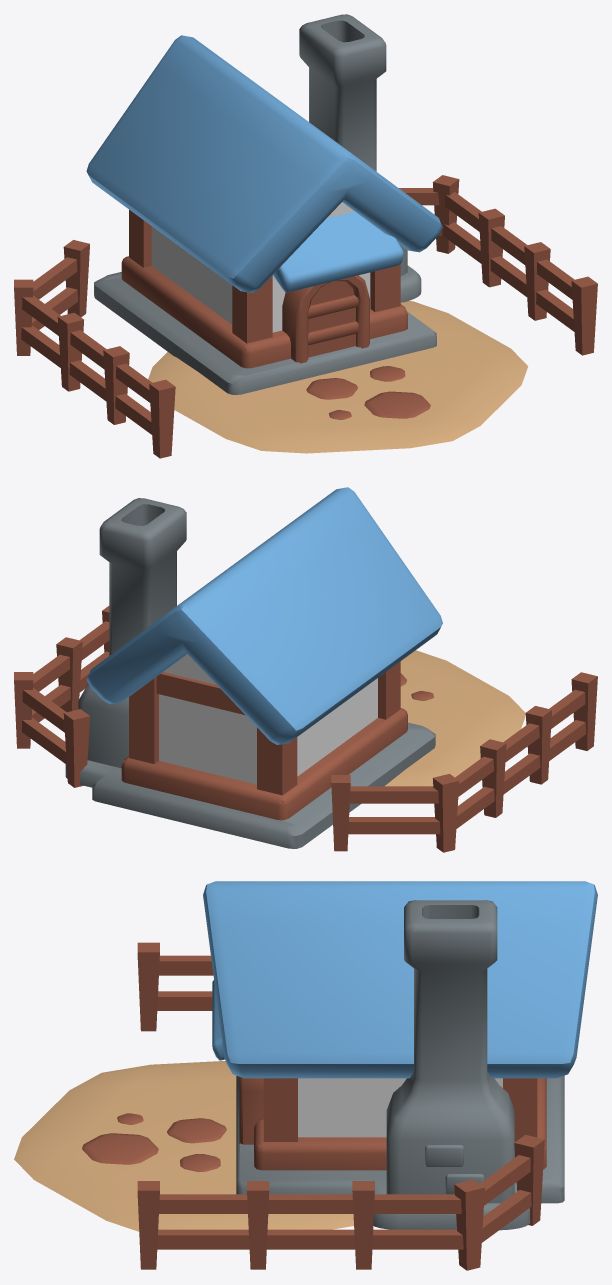
File: building_house_builder_blue.glb
The picture shows the model from 3 angles, top to bottom: view 1: azimuth 30°, elevation 25°; view 2: azimuth 150°, elevation 25°; view 3: azimuth 270°, elevation 25°; orthographic projection. The views are drawn at different scales.
Parts seen in each view (by area): view 1: house; view 2: house; view 3: house.
Part boxes in pixels (x1,y1,x2,y2): house: (14, 14, 597, 458); house: (14, 487, 597, 852); house: (14, 881, 597, 1270).
Bounding box in the file's own units: 1.69 × 0.9138 × 1.66.
